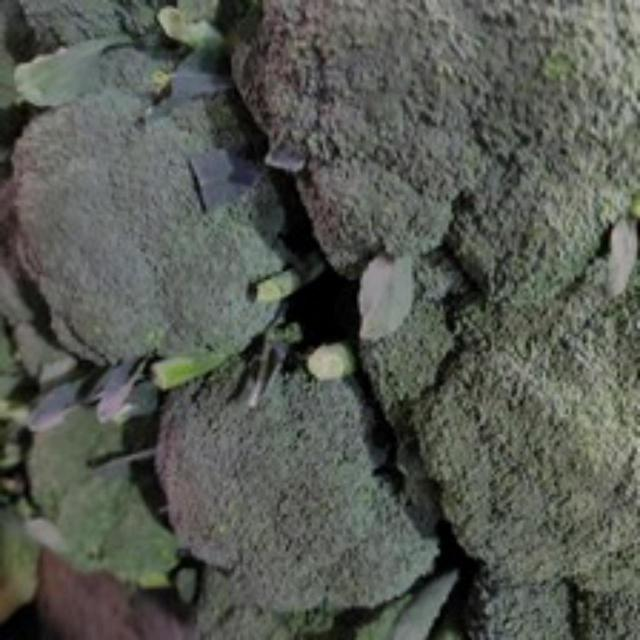broccoli: (27, 81, 324, 367)
